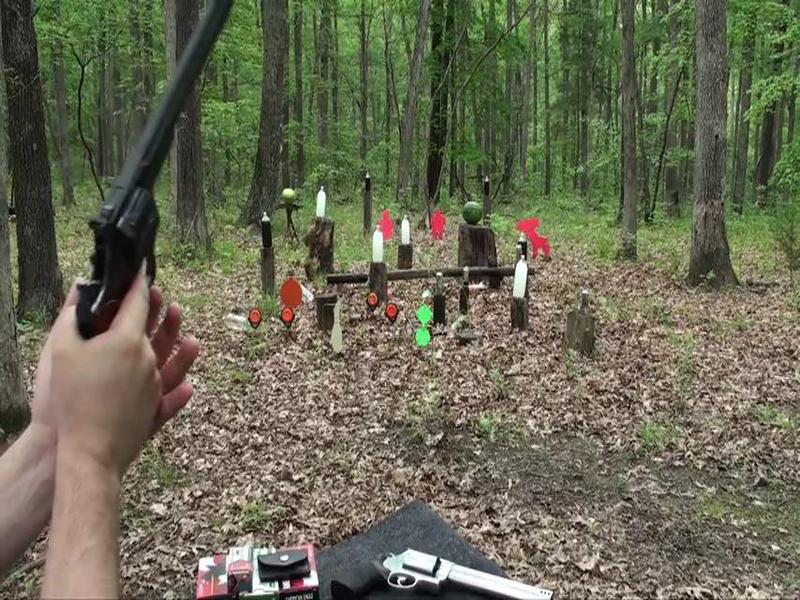Revolver: (62, 1, 282, 359)
